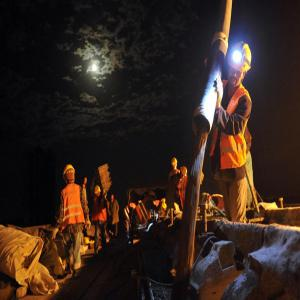none: (82, 175, 88, 186), (111, 193, 115, 202)
yellow: (227, 42, 253, 89), (64, 165, 77, 184), (180, 165, 188, 180), (94, 186, 102, 198), (149, 190, 157, 202), (172, 157, 178, 171)
